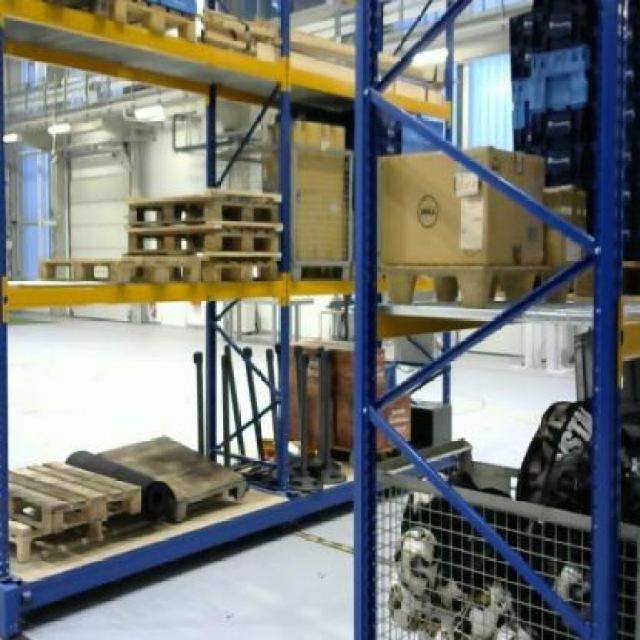box: (376, 144, 542, 262), (288, 118, 346, 258)
